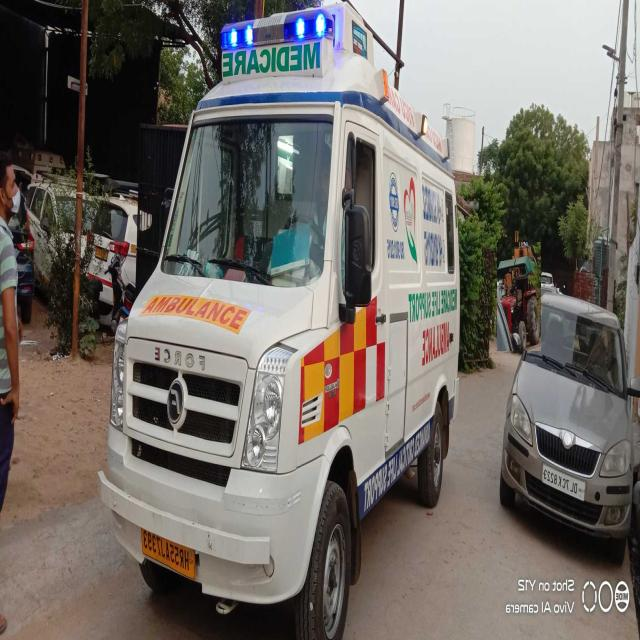car: (500, 293, 640, 562)
emergency: (100, 3, 460, 637)
truck: (497, 242, 540, 351)
